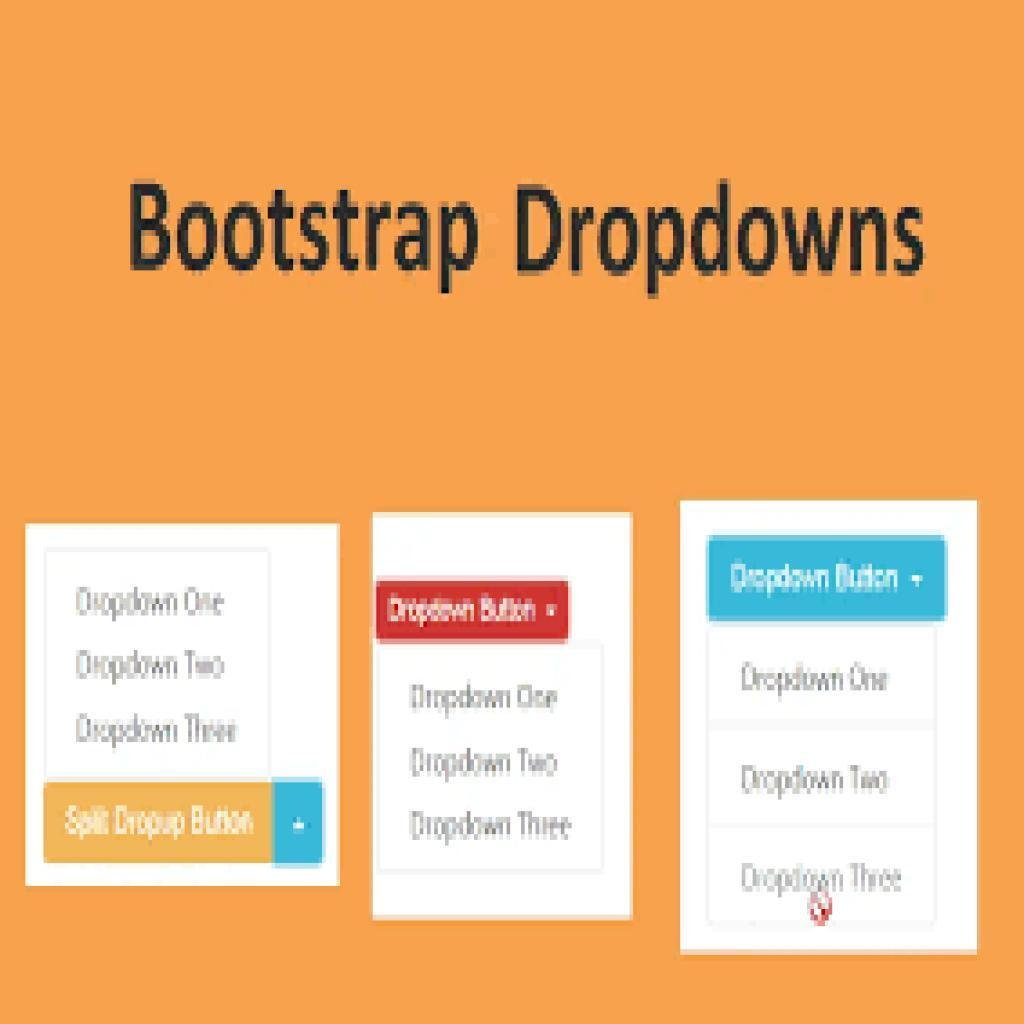dropdown: (45, 783, 326, 866), (707, 534, 951, 620), (381, 582, 567, 643)
